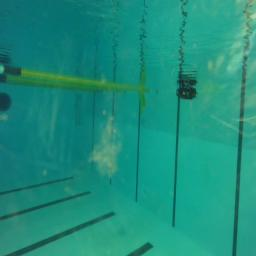Side: (176, 86, 197, 100)
